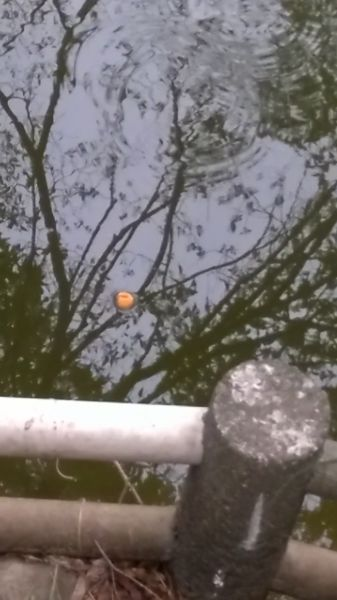eggs: (112, 289, 136, 311)
